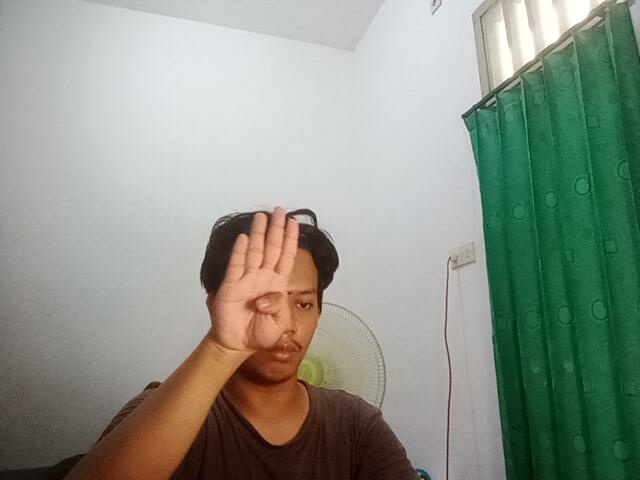B: (211, 202, 298, 357)
